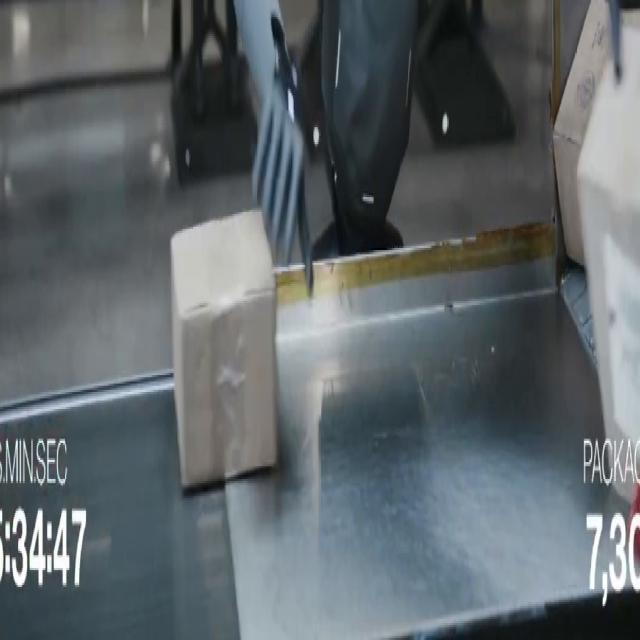package: (171, 210, 277, 489), (578, 26, 639, 500), (553, 0, 610, 264)
